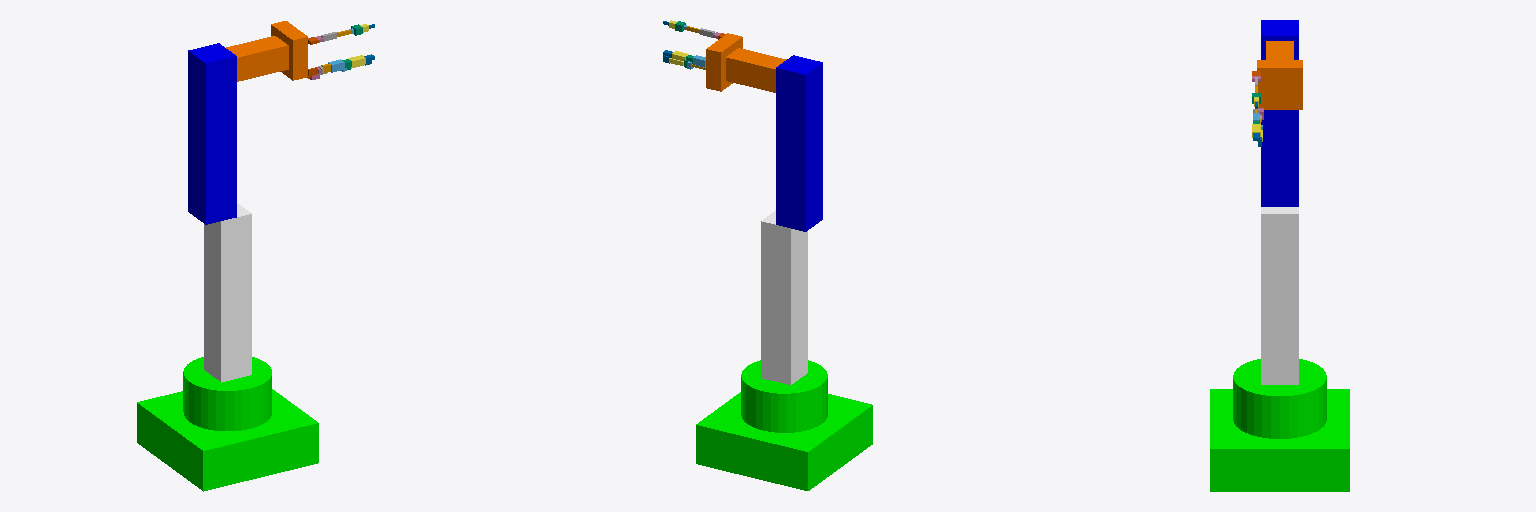
robot.urdf — robot:
<?xml version='1.0' encoding='utf-8'?>
<robot name="robot">
  <link name="base_link">
    <visual>
      <origin xyz="0 0 0.125" rpy="0 0 0" />
      <geometry>
        <box size="0.75 0.75 0.25" />
      </geometry>
      <material name="green" />
    </visual>
    <visual>
      <origin xyz="0 0 0.375" rpy="0 0 0" />
      <geometry>
        <cylinder length="0.25" radius="0.25" />
      </geometry>
      <material name="green">
        <color rgba="0 1 0 1" />
      </material>
    </visual>
    <collision>
      <geometry>
        <box size="0.75 0.75 0.5" />
      </geometry>
    </collision>
    <inertial>
      <mass value="0.5" />
      <inertia ixx="0.034" ixy="0.0" ixz="0.0" iyy="0.034" iyz="0.0" izz="0.034" />
    </inertial>
  </link>
  <link name="support_link">
    <visual>
      <origin xyz="0 0 0.5" rpy="0 0 0" />
      <geometry>
        <box size="0.2 0.2 1" />
      </geometry>
      <material name="white">
        <color rgba="1 1 1 1" />
      </material>
    </visual>
    <collision>
      <geometry>
        <box size="0.2 0.2 1" />
      </geometry>
    </collision>
    <inertial>
      <mass value="0.1" />
      <inertia ixx="0.01" ixy="0.0" ixz="0.0" iyy="0.01" iyz="0.0" izz="0.01" />
    </inertial>
  </link>
  <joint name="support_joint" type="continuous">
    <origin xyz="0 0 0.5" rpy="0 0 0" />
    <parent link="base_link" />
    <child link="support_link" />
    <axis xyz="0 0 1" />
  </joint>
  <link name="arm_link">
    <visual>
      <origin xyz="0 0 0.5" rpy="0 0 0" />
      <geometry>
        <box size="0.2 0.2 1" />
      </geometry>
      <material name="blue">
        <color rgba="0 0 1 1" />
      </material>
    </visual>
    <collision>
      <geometry>
        <box size="0.2 0.2 1" />
      </geometry>
    </collision>
    <inertial>
      <mass value="0.1" />
      <inertia ixx="0.01" ixy="0.0" ixz="0.0" iyy="0.01" iyz="0.0" izz="0.01" />
    </inertial>
  </link>
  <joint name="arm_joint" type="revolute">
    <origin xyz="-0.1 0 1" rpy="0 0 0" />
    <parent link="support_link" />
    <child link="arm_link" />
    <axis xyz="0 1 0" />
    <limit lower="-3.14" upper="3.14" effort="1.0" velocity="1.0" />
  </joint>
  <link name="wrist_link">
    <visual>
      <origin xyz="0 0 0.25" rpy="0 0 0" />
      <geometry>
        <box size="0.15 0.15 0.5" />
      </geometry>
      <material name="orange">
        <color rgba="1 0.5 0 1" />
      </material>
    </visual>
    <collision>
      <geometry>
        <box size="0.15 0.15 0.5" />
      </geometry>
    </collision>
    <inertial>
      <mass value="0.1" />
      <inertia ixx="0.01" ixy="0.0" ixz="0.0" iyy="0.01" iyz="0.0" izz="0.01" />
    </inertial>
  </link>
  <joint name="wrist_joint" type="fixed">
    <origin xyz="0 0 0.9" rpy="0 1.571 0" />
    <parent link="arm_link" />
    <child link="wrist_link" />
  </joint>
  <link name="palm_link">
    <visual>
      <origin xyz="0 0 0.05" rpy="0 0 0" />
      <geometry>
        <box size="0.25 0.25 0.1" />
      </geometry>
      <material name="orange" />
    </visual>
    <collision>
      <geometry>
        <box size="0.25 0.25 0.1" />
      </geometry>
    </collision>
    <inertial>
      <mass value="0.1" />
      <inertia ixx="0.01" ixy="0.0" ixz="0.0" iyy="0.01" iyz="0.0" izz="0.01" />
    </inertial>
  </link>
  <joint name="palm_joint" type="fixed">
    <origin xyz="0 0 0.45" rpy="0 0 0" />
    <parent link="wrist_link" />
    <child link="palm_link" />
  </joint>
  <link name="finger_link_0_0">
    <visual>
      <origin xyz="0 0 0.026" rpy="0 0 0" />
      <geometry>
        <box size="0.021 0.048 0.052" />
      </geometry>
    </visual>
    <collision>
      <geometry>
        <box size="0.021 0.048 0.052" />
      </geometry>
    </collision>
    <inertial>
      <mass value="0.016" />
      <inertia ixx="0.0" iyy="0.0" izz="0.0" ixy="0" ixz="0" iyz="0" />
    </inertial>
  </link>
  <joint name="finger_joint_palm_link_to_finger_link_0_0" type="revolute">
    <origin xyz="-0.093 -0.125 0.1" rpy="0 0 0" />
    <parent link="palm_link" />
    <child link="finger_link_0_0" />
    <axis xyz="1.0 0.0 0.0" />
    <limit lower="-3.142" upper="3.142" effort="10" velocity="10" />
  </joint>
  <link name="finger_link_0_1">
    <visual>
      <origin xyz="0 0 0.018" rpy="0 0 0" />
      <geometry>
        <box size="0.018 0.045 0.036" />
      </geometry>
    </visual>
    <collision>
      <geometry>
        <box size="0.018 0.045 0.036" />
      </geometry>
    </collision>
    <inertial>
      <mass value="0.009" />
      <inertia ixx="0.0" iyy="0.0" izz="0.0" ixy="0" ixz="0" iyz="0" />
    </inertial>
  </link>
  <joint name="finger_joint_finger_link_0_0_to_finger_link_0_1" type="revolute">
    <origin xyz="0.0 0.0 0.052" rpy="0 0 0" />
    <parent link="finger_link_0_0" />
    <child link="finger_link_0_1" />
    <axis xyz="0.0 1.0 0.0" />
    <limit lower="-3.142" upper="3.142" effort="10" velocity="10" />
  </joint>
  <link name="finger_link_0_2">
    <visual>
      <origin xyz="0 0 0.047" rpy="0 0 0" />
      <geometry>
        <box size="0.034 0.019 0.094" />
      </geometry>
    </visual>
    <collision>
      <geometry>
        <box size="0.034 0.019 0.094" />
      </geometry>
    </collision>
    <inertial>
      <mass value="0.018" />
      <inertia ixx="0.0" iyy="0.0" izz="0.0" ixy="0" ixz="0" iyz="0" />
    </inertial>
  </link>
  <joint name="finger_joint_finger_link_0_1_to_finger_link_0_2" type="revolute">
    <origin xyz="0.0 0.0 0.036" rpy="0 0 0" />
    <parent link="finger_link_0_1" />
    <child link="finger_link_0_2" />
    <axis xyz="0.0 1.0 0.0" />
    <limit lower="-3.142" upper="3.142" effort="10" velocity="10" />
  </joint>
  <link name="finger_link_0_3">
    <visual>
      <origin xyz="0 0 0.0455" rpy="0 0 0" />
      <geometry>
        <box size="0.024 0.013 0.091" />
      </geometry>
    </visual>
    <collision>
      <geometry>
        <box size="0.024 0.013 0.091" />
      </geometry>
    </collision>
    <inertial>
      <mass value="0.009" />
      <inertia ixx="0.0" iyy="0.0" izz="0.0" ixy="0" ixz="0" iyz="0" />
    </inertial>
  </link>
  <joint name="finger_joint_finger_link_0_2_to_finger_link_0_3" type="revolute">
    <origin xyz="0.0 0.0 0.094" rpy="0 0 0" />
    <parent link="finger_link_0_2" />
    <child link="finger_link_0_3" />
    <axis xyz="0.0 1.0 0.0" />
    <limit lower="-3.142" upper="3.142" effort="10" velocity="10" />
  </joint>
  <link name="finger_link_0_4">
    <visual>
      <origin xyz="0 0 0.0095" rpy="0 0 0" />
      <geometry>
        <box size="0.023 0.019 0.019" />
      </geometry>
    </visual>
    <collision>
      <geometry>
        <box size="0.023 0.019 0.019" />
      </geometry>
    </collision>
    <inertial>
      <mass value="0.002" />
      <inertia ixx="0.0" iyy="0.0" izz="0.0" ixy="0" ixz="0" iyz="0" />
    </inertial>
  </link>
  <joint name="finger_joint_finger_link_0_3_to_finger_link_0_4" type="revolute">
    <origin xyz="0.0 0.0 0.091" rpy="0 0 0" />
    <parent link="finger_link_0_3" />
    <child link="finger_link_0_4" />
    <axis xyz="1.0 0.0 0.0" />
    <limit lower="-3.142" upper="3.142" effort="10" velocity="10" />
  </joint>
  <link name="finger_link_0_5">
    <visual>
      <origin xyz="0 0 0.0235" rpy="0 0 0" />
      <geometry>
        <box size="0.041 0.049 0.047" />
      </geometry>
    </visual>
    <collision>
      <geometry>
        <box size="0.041 0.049 0.047" />
      </geometry>
    </collision>
    <inertial>
      <mass value="0.028" />
      <inertia ixx="0.0" iyy="0.0" izz="0.0" ixy="0" ixz="0" iyz="0" />
    </inertial>
  </link>
  <joint name="finger_joint_finger_link_0_4_to_finger_link_0_5" type="revolute">
    <origin xyz="0.0 0.0 0.019" rpy="0 0 0" />
    <parent link="finger_link_0_4" />
    <child link="finger_link_0_5" />
    <axis xyz="0.0 1.0 0.0" />
    <limit lower="-3.142" upper="3.142" effort="10" velocity="10" />
  </joint>
  <link name="finger_link_0_6">
    <visual>
      <origin xyz="0 0 0.023" rpy="0 0 0" />
      <geometry>
        <box size="0.033 0.031 0.046" />
      </geometry>
    </visual>
    <collision>
      <geometry>
        <box size="0.033 0.031 0.046" />
      </geometry>
    </collision>
    <inertial>
      <mass value="0.014" />
      <inertia ixx="0.0" iyy="0.0" izz="0.0" ixy="0" ixz="0" iyz="0" />
    </inertial>
  </link>
  <joint name="finger_joint_finger_link_0_5_to_finger_link_0_6" type="revolute">
    <origin xyz="0.0 0.0 0.047" rpy="0 0 0" />
    <parent link="finger_link_0_5" />
    <child link="finger_link_0_6" />
    <axis xyz="0.0 1.0 0.0" />
    <limit lower="-3.142" upper="3.142" effort="10" velocity="10" />
  </joint>
  <link name="finger_link_0_7">
    <visual>
      <origin xyz="0 0 0.023" rpy="0 0 0" />
      <geometry>
        <box size="0.018 0.011 0.046" />
      </geometry>
    </visual>
    <collision>
      <geometry>
        <box size="0.018 0.011 0.046" />
      </geometry>
    </collision>
    <inertial>
      <mass value="0.003" />
      <inertia ixx="0.0" iyy="0.0" izz="0.0" ixy="0" ixz="0" iyz="0" />
    </inertial>
  </link>
  <joint name="finger_joint_finger_link_0_6_to_finger_link_0_7" type="revolute">
    <origin xyz="0.0 0.0 0.046" rpy="0 0 0" />
    <parent link="finger_link_0_6" />
    <child link="finger_link_0_7" />
    <axis xyz="0.0 1.0 0.0" />
    <limit lower="-3.142" upper="3.142" effort="10" velocity="10" />
  </joint>
  <link name="finger_link_1_0">
    <visual>
      <origin xyz="0 0 0.0285" rpy="0 0 0" />
      <geometry>
        <box size="0.04 0.012 0.057" />
      </geometry>
    </visual>
    <collision>
      <geometry>
        <box size="0.04 0.012 0.057" />
      </geometry>
    </collision>
    <inertial>
      <mass value="0.008" />
      <inertia ixx="0.0" iyy="0.0" izz="0.0" ixy="0" ixz="0" iyz="0" />
    </inertial>
  </link>
  <joint name="finger_joint_palm_link_to_finger_link_1_0" type="revolute">
    <origin xyz="0.099 -0.125 0.1" rpy="0 0 0" />
    <parent link="palm_link" />
    <child link="finger_link_1_0" />
    <axis xyz="1.0 0.0 0.0" />
    <limit lower="-3.142" upper="3.142" effort="10" velocity="10" />
  </joint>
  <link name="finger_link_1_1">
    <visual>
      <origin xyz="0 0 0.009" rpy="0 0 0" />
      <geometry>
        <box size="0.02 0.042 0.018" />
      </geometry>
    </visual>
    <collision>
      <geometry>
        <box size="0.02 0.042 0.018" />
      </geometry>
    </collision>
    <inertial>
      <mass value="0.005" />
      <inertia ixx="0.0" iyy="0.0" izz="0.0" ixy="0" ixz="0" iyz="0" />
    </inertial>
  </link>
  <joint name="finger_joint_finger_link_1_0_to_finger_link_1_1" type="revolute">
    <origin xyz="0.0 0.0 0.057" rpy="0 0 0" />
    <parent link="finger_link_1_0" />
    <child link="finger_link_1_1" />
    <axis xyz="0.0 1.0 0.0" />
    <limit lower="-3.142" upper="3.142" effort="10" velocity="10" />
  </joint>
  <link name="finger_link_1_2">
    <visual>
      <origin xyz="0 0 0.0075" rpy="0 0 0" />
      <geometry>
        <box size="0.031 0.036 0.015" />
      </geometry>
    </visual>
    <collision>
      <geometry>
        <box size="0.031 0.036 0.015" />
      </geometry>
    </collision>
    <inertial>
      <mass value="0.005" />
      <inertia ixx="0.0" iyy="0.0" izz="0.0" ixy="0" ixz="0" iyz="0" />
    </inertial>
  </link>
  <joint name="finger_joint_finger_link_1_1_to_finger_link_1_2" type="revolute">
    <origin xyz="0.0 0.0 0.018" rpy="0 0 0" />
    <parent link="finger_link_1_1" />
    <child link="finger_link_1_2" />
    <axis xyz="0.0 1.0 0.0" />
    <limit lower="-3.142" upper="3.142" effort="10" velocity="10" />
  </joint>
  <link name="finger_link_1_3">
    <visual>
      <origin xyz="0 0 0.025" rpy="0 0 0" />
      <geometry>
        <box size="0.044 0.018 0.05" />
      </geometry>
    </visual>
    <collision>
      <geometry>
        <box size="0.044 0.018 0.05" />
      </geometry>
    </collision>
    <inertial>
      <mass value="0.012" />
      <inertia ixx="0.0" iyy="0.0" izz="0.0" ixy="0" ixz="0" iyz="0" />
    </inertial>
  </link>
  <joint name="finger_joint_finger_link_1_2_to_finger_link_1_3" type="revolute">
    <origin xyz="0.0 0.0 0.015" rpy="0 0 0" />
    <parent link="finger_link_1_2" />
    <child link="finger_link_1_3" />
    <axis xyz="1.0 0.0 0.0" />
    <limit lower="-3.142" upper="3.142" effort="10" velocity="10" />
  </joint>
  <link name="finger_link_1_4">
    <visual>
      <origin xyz="0 0 0.0415" rpy="0 0 0" />
      <geometry>
        <box size="0.047 0.042 0.083" />
      </geometry>
    </visual>
    <collision>
      <geometry>
        <box size="0.047 0.042 0.083" />
      </geometry>
    </collision>
    <inertial>
      <mass value="0.049" />
      <inertia ixx="0.0" iyy="0.0" izz="0.0" ixy="0" ixz="0" iyz="0" />
    </inertial>
  </link>
  <joint name="finger_joint_finger_link_1_3_to_finger_link_1_4" type="revolute">
    <origin xyz="0.0 0.0 0.05" rpy="0 0 0" />
    <parent link="finger_link_1_3" />
    <child link="finger_link_1_4" />
    <axis xyz="0.0 1.0 0.0" />
    <limit lower="-3.142" upper="3.142" effort="10" velocity="10" />
  </joint>
  <link name="finger_link_1_5">
    <visual>
      <origin xyz="0 0 0.0235" rpy="0 0 0" />
      <geometry>
        <box size="0.033 0.037 0.047" />
      </geometry>
    </visual>
    <collision>
      <geometry>
        <box size="0.033 0.037 0.047" />
      </geometry>
    </collision>
    <inertial>
      <mass value="0.017" />
      <inertia ixx="0.0" iyy="0.0" izz="0.0" ixy="0" ixz="0" iyz="0" />
    </inertial>
  </link>
  <joint name="finger_joint_finger_link_1_4_to_finger_link_1_5" type="revolute">
    <origin xyz="0.0 0.0 0.083" rpy="0 0 0" />
    <parent link="finger_link_1_4" />
    <child link="finger_link_1_5" />
    <axis xyz="0.0 1.0 0.0" />
    <limit lower="-3.142" upper="3.142" effort="10" velocity="10" />
  </joint>
  <link name="finger_link_1_6">
    <visual>
      <origin xyz="0 0 0.0455" rpy="0 0 0" />
      <geometry>
        <box size="0.035 0.048 0.091" />
      </geometry>
    </visual>
    <collision>
      <geometry>
        <box size="0.035 0.048 0.091" />
      </geometry>
    </collision>
    <inertial>
      <mass value="0.046" />
      <inertia ixx="0.0" iyy="0.0" izz="0.0" ixy="0" ixz="0" iyz="0" />
    </inertial>
  </link>
  <joint name="finger_joint_finger_link_1_5_to_finger_link_1_6" type="revolute">
    <origin xyz="0.0 0.0 0.047" rpy="0 0 0" />
    <parent link="finger_link_1_5" />
    <child link="finger_link_1_6" />
    <axis xyz="0.0 1.0 0.0" />
    <limit lower="-3.142" upper="3.142" effort="10" velocity="10" />
  </joint>
  <link name="finger_link_1_7">
    <visual>
      <origin xyz="0 0 0.0305" rpy="0 0 0" />
      <geometry>
        <box size="0.021 0.034 0.061" />
      </geometry>
    </visual>
    <collision>
      <geometry>
        <box size="0.021 0.034 0.061" />
      </geometry>
    </collision>
    <inertial>
      <mass value="0.013" />
      <inertia ixx="0.0" iyy="0.0" izz="0.0" ixy="0" ixz="0" iyz="0" />
    </inertial>
  </link>
  <joint name="finger_joint_finger_link_1_6_to_finger_link_1_7" type="revolute">
    <origin xyz="0.0 0.0 0.091" rpy="0 0 0" />
    <parent link="finger_link_1_6" />
    <child link="finger_link_1_7" />
    <axis xyz="0.0 1.0 0.0" />
    <limit lower="-3.142" upper="3.142" effort="10" velocity="10" />
  </joint>
  <link name="finger_link_2_0">
    <visual>
      <origin xyz="0 0 0.0095" rpy="0 0 0" />
      <geometry>
        <box size="0.021 0.032 0.019" />
      </geometry>
    </visual>
    <collision>
      <geometry>
        <box size="0.021 0.032 0.019" />
      </geometry>
    </collision>
    <inertial>
      <mass value="0.004" />
      <inertia ixx="0.0" iyy="0.0" izz="0.0" ixy="0" ixz="0" iyz="0" />
    </inertial>
  </link>
  <joint name="finger_joint_palm_link_to_finger_link_2_0" type="revolute">
    <origin xyz="0.125 -0.107 0.1" rpy="0 0 0" />
    <parent link="palm_link" />
    <child link="finger_link_2_0" />
    <axis xyz="0.0 1.0 0.0" />
    <limit lower="-3.142" upper="3.142" effort="10" velocity="10" />
  </joint>
  <link name="finger_link_2_1">
    <visual>
      <origin xyz="0 0 0.027" rpy="0 0 0" />
      <geometry>
        <box size="0.048 0.044 0.054" />
      </geometry>
    </visual>
    <collision>
      <geometry>
        <box size="0.048 0.044 0.054" />
      </geometry>
    </collision>
    <inertial>
      <mass value="0.034" />
      <inertia ixx="0.0" iyy="0.0" izz="0.0" ixy="0" ixz="0" iyz="0" />
    </inertial>
  </link>
  <joint name="finger_joint_finger_link_2_0_to_finger_link_2_1" type="revolute">
    <origin xyz="0.0 0.0 0.019" rpy="0 0 0" />
    <parent link="finger_link_2_0" />
    <child link="finger_link_2_1" />
    <axis xyz="1.0 0.0 0.0" />
    <limit lower="-3.142" upper="3.142" effort="10" velocity="10" />
  </joint>
  <link name="finger_link_2_2">
    <visual>
      <origin xyz="0 0 0.027" rpy="0 0 0" />
      <geometry>
        <box size="0.016 0.026 0.054" />
      </geometry>
    </visual>
    <collision>
      <geometry>
        <box size="0.016 0.026 0.054" />
      </geometry>
    </collision>
    <inertial>
      <mass value="0.007" />
      <inertia ixx="0.0" iyy="0.0" izz="0.0" ixy="0" ixz="0" iyz="0" />
    </inertial>
  </link>
  <joint name="finger_joint_finger_link_2_1_to_finger_link_2_2" type="revolute">
    <origin xyz="0.0 0.0 0.054" rpy="0 0 0" />
    <parent link="finger_link_2_1" />
    <child link="finger_link_2_2" />
    <axis xyz="1.0 0.0 0.0" />
    <limit lower="-3.142" upper="3.142" effort="10" velocity="10" />
  </joint>
  <link name="finger_link_2_3">
    <visual>
      <origin xyz="0 0 0.049" rpy="0 0 0" />
      <geometry>
        <box size="0.012 0.016 0.098" />
      </geometry>
    </visual>
    <collision>
      <geometry>
        <box size="0.012 0.016 0.098" />
      </geometry>
    </collision>
    <inertial>
      <mass value="0.006" />
      <inertia ixx="0.0" iyy="0.0" izz="0.0" ixy="0" ixz="0" iyz="0" />
    </inertial>
  </link>
  <joint name="finger_joint_finger_link_2_2_to_finger_link_2_3" type="revolute">
    <origin xyz="0.0 0.0 0.054" rpy="0 0 0" />
    <parent link="finger_link_2_2" />
    <child link="finger_link_2_3" />
    <axis xyz="1.0 1.0 0.0" />
    <limit lower="-3.142" upper="3.142" effort="10" velocity="10" />
  </joint>
  <link name="finger_link_2_4">
    <visual>
      <origin xyz="0 0 0.014" rpy="0 0 0" />
      <geometry>
        <box size="0.041 0.038 0.028" />
      </geometry>
    </visual>
    <collision>
      <geometry>
        <box size="0.041 0.038 0.028" />
      </geometry>
    </collision>
    <inertial>
      <mass value="0.013" />
      <inertia ixx="0.0" iyy="0.0" izz="0.0" ixy="0" ixz="0" iyz="0" />
    </inertial>
  </link>
  <joint name="finger_joint_finger_link_2_3_to_finger_link_2_4" type="revolute">
    <origin xyz="0.0 0.0 0.098" rpy="0 0 0" />
    <parent link="finger_link_2_3" />
    <child link="finger_link_2_4" />
    <axis xyz="0.0 1.0 0.0" />
    <limit lower="-3.142" upper="3.142" effort="10" velocity="10" />
  </joint>
  <link name="finger_link_2_5">
    <visual>
      <origin xyz="0 0 0.0135" rpy="0 0 0" />
      <geometry>
        <box size="0.045 0.015 0.027" />
      </geometry>
    </visual>
    <collision>
      <geometry>
        <box size="0.045 0.015 0.027" />
      </geometry>
    </collision>
    <inertial>
      <mass value="0.005" />
      <inertia ixx="0.0" iyy="0.0" izz="0.0" ixy="0" ixz="0" iyz="0" />
    </inertial>
  </link>
  <joint name="finger_joint_finger_link_2_4_to_finger_link_2_5" type="revolute">
    <origin xyz="0.0 0.0 0.028" rpy="0 0 0" />
    <parent link="finger_link_2_4" />
    <child link="finger_link_2_5" />
    <axis xyz="1.0 1.0 0.0" />
    <limit lower="-3.142" upper="3.142" effort="10" velocity="10" />
  </joint>
  <link name="finger_link_2_6">
    <visual>
      <origin xyz="0 0 0.046" rpy="0 0 0" />
      <geometry>
        <box size="0.028 0.028 0.092" />
      </geometry>
    </visual>
    <collision>
      <geometry>
        <box size="0.028 0.028 0.092" />
      </geometry>
    </collision>
    <inertial>
      <mass value="0.022" />
      <inertia ixx="0.0" iyy="0.0" izz="0.0" ixy="0" ixz="0" iyz="0" />
    </inertial>
  </link>
  <joint name="finger_joint_finger_link_2_5_to_finger_link_2_6" type="revolute">
    <origin xyz="0.0 0.0 0.027" rpy="0 0 0" />
    <parent link="finger_link_2_5" />
    <child link="finger_link_2_6" />
    <axis xyz="1.0 1.0 0.0" />
    <limit lower="-3.142" upper="3.142" effort="10" velocity="10" />
  </joint>
  <link name="finger_link_2_7">
    <visual>
      <origin xyz="0 0 0.022" rpy="0 0 0" />
      <geometry>
        <box size="0.039 0.021 0.044" />
      </geometry>
    </visual>
    <collision>
      <geometry>
        <box size="0.039 0.021 0.044" />
      </geometry>
    </collision>
    <inertial>
      <mass value="0.011" />
      <inertia ixx="0.0" iyy="0.0" izz="0.0" ixy="0" ixz="0" iyz="0" />
    </inertial>
  </link>
  <joint name="finger_joint_finger_link_2_6_to_finger_link_2_7" type="revolute">
    <origin xyz="0.0 0.0 0.092" rpy="0 0 0" />
    <parent link="finger_link_2_6" />
    <child link="finger_link_2_7" />
    <axis xyz="1.0 0.0 0.0" />
    <limit lower="-3.142" upper="3.142" effort="10" velocity="10" />
  </joint>
</robot>

--- Facts derived from the render (not from the file) ---
The picture shows the robot from 3 angles, left to right: view 1: azimuth 30°, elevation 25°; view 2: azimuth 150°, elevation 25°; view 3: azimuth 270°, elevation 25°; orthographic projection.
Robot: robot — 29 links, 28 joints (25 revolute, 1 continuous, 2 fixed); root link base_link; default pose: every joint at zero.
Links seen in each view (by area): view 1: base_link, arm_link, support_link, wrist_link, palm_link; view 2: base_link, arm_link, support_link, wrist_link, palm_link; view 3: base_link, support_link, arm_link, palm_link, wrist_link.
Link boxes in pixels (x1,y1,x2,y2): base_link: [137, 357, 318, 491]; arm_link: [188, 43, 236, 224]; support_link: [204, 203, 251, 382]; wrist_link: [226, 36, 288, 81]; palm_link: [271, 21, 307, 80]; base_link: [696, 360, 872, 490]; arm_link: [776, 55, 822, 231]; support_link: [761, 210, 807, 384]; wrist_link: [726, 48, 786, 92]; palm_link: [706, 33, 742, 91]; base_link: [1210, 359, 1349, 491]; support_link: [1261, 207, 1298, 384]; arm_link: [1261, 20, 1298, 206]; palm_link: [1257, 60, 1302, 109]; wrist_link: [1266, 41, 1293, 59].
Bounding box of the posed robot: 1.26 × 0.75 × 2.52 m (x, y, z).
Geometry: primitives only (box / cylinder / sphere), no mesh files.
